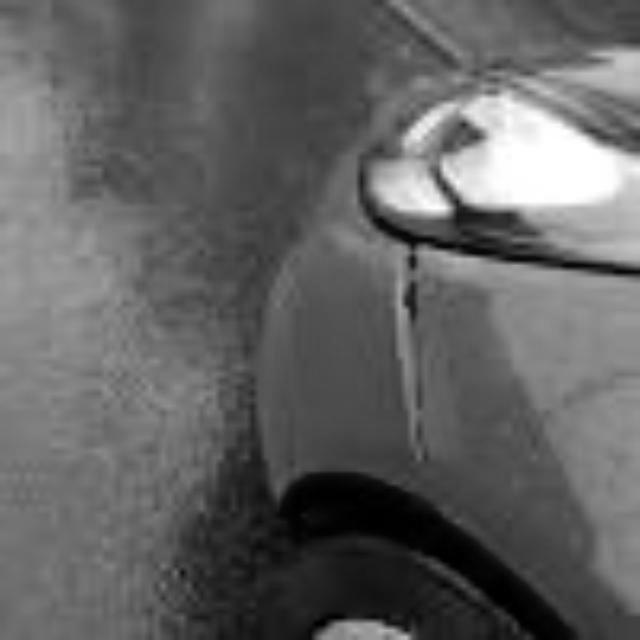front-bumper-dent: (225, 141, 436, 576)
